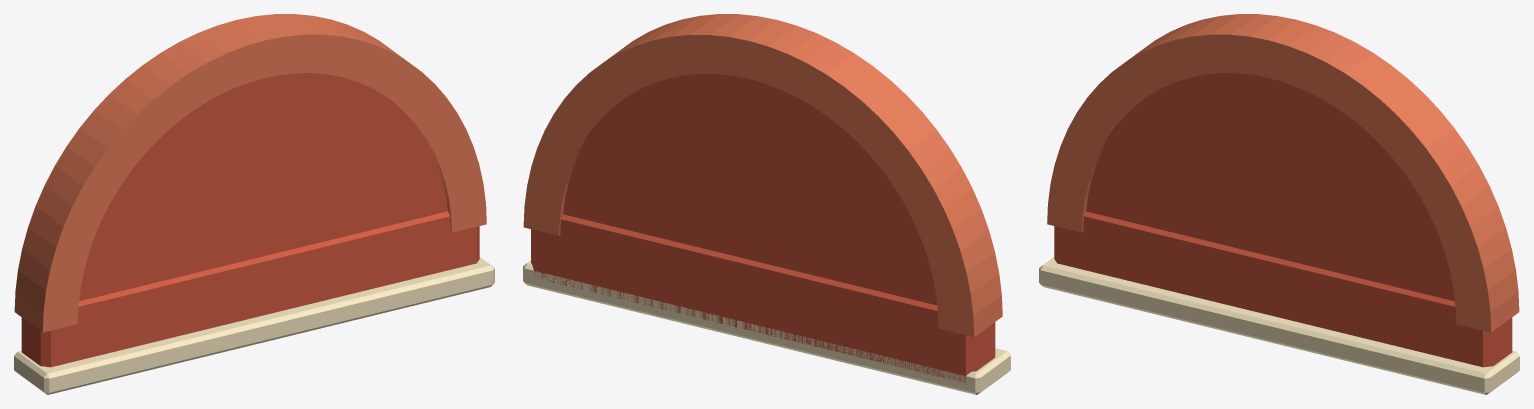
Rendered from HealingArch.glb.
The picture shows the model from 3 angles, left to right: view 1: azimuth 30°, elevation 25°; view 2: azimuth 150°, elevation 25°; view 3: azimuth 330°, elevation 25°; orthographic projection.
Parts seen in each view (by area): view 1: HealingArch; view 2: HealingArch; view 3: HealingArch.
Part boxes in pixels (bbox=[...]): HealingArch: bbox=[14, 14, 494, 394]; HealingArch: bbox=[523, 14, 1010, 394]; HealingArch: bbox=[1039, 14, 1519, 394].
Size of the model in its own units: 2.7 by 1.7 by 0.36.
